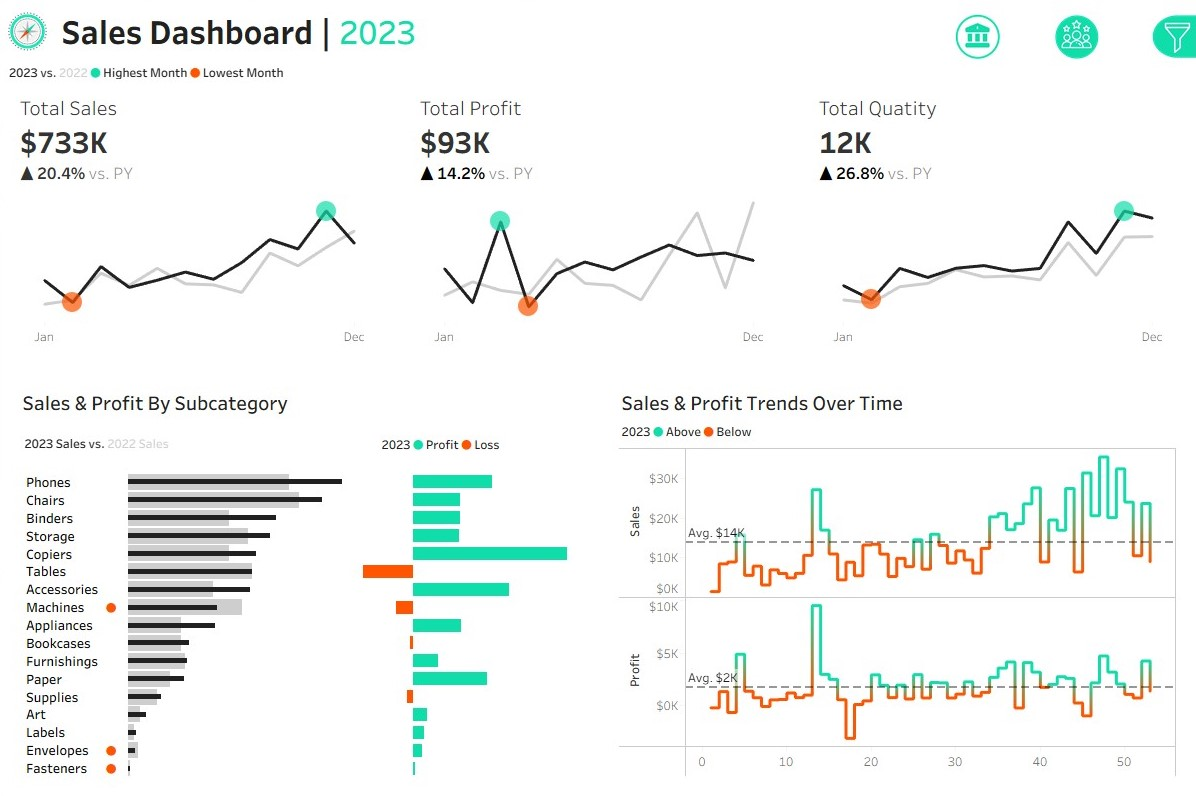

The dashboard page shown, as its layout file describes it:
{"tool":"tableau","page":{"name":"Sales Dashboard","canvas":[1200,800],"ordinal":1},"visuals":[{"type":"image","param":"Image/Icon - Logo.png","box":[1,1,56,62]},{"type":"text","box":[57,1,815,62]},{"type":"dashboard-object","box":[930,11,99,53]},{"type":"dashboard-object","box":[1029,11,98,53]},{"type":"blank","box":[958,13,229,68]},{"type":"worksheet","title":"Legend KPI","mark":"Automatic","box":[1,63,1198,21]},{"type":"text","box":[958,81,229,34]},{"type":"worksheet","title":"KPI Sales","mark":"Automatic","rows":["Calculation_1124211110751391749"],"cols":["Order Date"],"box":[1,84,400,285]},{"type":"worksheet","title":"KPI Profit","mark":"Automatic","rows":["Calculation_1124211110772457487"],"cols":["Order Date"],"box":[401,84,399,285]},{"type":"worksheet","title":"KPI Quantity","mark":"Automatic","rows":["Calculation_1124211110836072469"],"cols":["Order Date"],"box":[800,84,399,285]},{"type":"blank","box":[958,115,229,68]},{"type":"text","box":[958,183,229,29]},{"type":"parameter","param":"[Parameters].[Parameter 1]","box":[958,212,229,52]},{"type":"blank","box":[958,264,229,68]},{"type":"text","box":[958,332,229,29]},{"type":"filter","title":"KPI Sales","param":"[federated.0d7sr6s0hqpcep111d0ox0z836gz].[none:Category:nk]","box":[958,361,229,52]},{"type":"text","box":[18,386,565,34]},{"type":"text","box":[617,386,565,34]},{"type":"filter","title":"KPI Sales","param":"[federated.0d7sr6s0hqpcep111d0ox0z836gz].[none:Sub-Category:nk]","box":[958,413,229,52]},{"type":"worksheet","title":"Legend Subcategory","mark":"Automatic","box":[18,420,359,50]},{"type":"text","box":[377,420,206,50]},{"type":"text","box":[617,420,565,25]},{"type":"worksheet","title":"Weekly Trends","mark":"Line","rows":["Calculation_1124211110744752128","Calculation_1124211110766559242"],"cols":["Order Date"],"box":[617,445,565,337]},{"type":"blank","box":[958,465,229,68]},{"type":"worksheet","title":"Subcategory Comparison","mark":"Bar","rows":["Sub-Category","Calculation_1673931740710531072"],"cols":["CY Sales (copy)_1124211110745350146","Calculation_1124211110744752128","Calculation_1124211110766559242"],"box":[18,470,565,312]},{"type":"text","box":[958,533,229,29]},{"type":"filter","title":"KPI Sales","param":"[federated.0d7sr6s0hqpcep111d0ox0z836gz].[none:Region:nk]","box":[958,562,229,52]},{"type":"filter","title":"KPI Sales","param":"[federated.0d7sr6s0hqpcep111d0ox0z836gz].[none:State:nk]","box":[958,614,229,52]},{"type":"filter","title":"KPI Sales","param":"[federated.0d7sr6s0hqpcep111d0ox0z836gz].[none:City:nk]","box":[958,666,229,52]}]}

Visuals, with their boxes in screenshot pixels (x1, y1, x2, y2), scaled from the page's 1200x800 canvas onto the 1196x796 screenshot:
image: select_region(1, 1, 57, 63)
text: select_region(57, 1, 869, 63)
dashboard-object: select_region(927, 11, 1026, 64)
dashboard-object: select_region(1026, 11, 1123, 64)
blank: select_region(955, 13, 1183, 81)
"Legend KPI" worksheet: select_region(1, 63, 1195, 84)
text: select_region(955, 81, 1183, 114)
"KPI Sales" worksheet: select_region(1, 84, 400, 367)
"KPI Profit" worksheet: select_region(400, 84, 797, 367)
"KPI Quantity" worksheet: select_region(797, 84, 1195, 367)
blank: select_region(955, 114, 1183, 182)
text: select_region(955, 182, 1183, 211)
parameter: select_region(955, 211, 1183, 263)
blank: select_region(955, 263, 1183, 330)
text: select_region(955, 330, 1183, 359)
"KPI Sales" filter: select_region(955, 359, 1183, 411)
text: select_region(18, 384, 581, 418)
text: select_region(615, 384, 1178, 418)
"KPI Sales" filter: select_region(955, 411, 1183, 463)
"Legend Subcategory" worksheet: select_region(18, 418, 376, 468)
text: select_region(376, 418, 581, 468)
text: select_region(615, 418, 1178, 443)
"Weekly Trends" worksheet (Line marks): select_region(615, 443, 1178, 778)
blank: select_region(955, 463, 1183, 530)
"Subcategory Comparison" worksheet (Bar marks): select_region(18, 468, 581, 778)
text: select_region(955, 530, 1183, 559)
"KPI Sales" filter: select_region(955, 559, 1183, 611)
"KPI Sales" filter: select_region(955, 611, 1183, 663)
"KPI Sales" filter: select_region(955, 663, 1183, 714)
